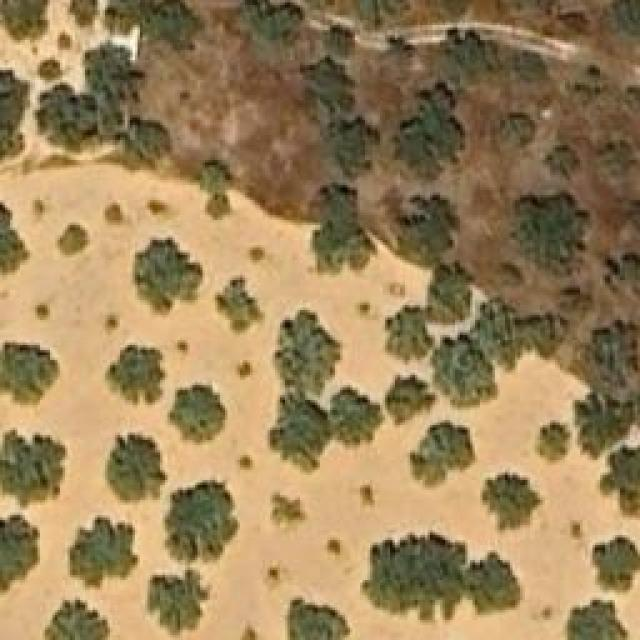Tree: (360, 533, 470, 618), (393, 80, 463, 178), (513, 193, 588, 268), (133, 238, 203, 318), (168, 480, 238, 560), (480, 305, 568, 368), (0, 428, 65, 511), (68, 515, 138, 590), (405, 420, 478, 490), (272, 313, 340, 388), (273, 390, 333, 470), (105, 433, 168, 503), (83, 43, 146, 113), (480, 470, 543, 535), (145, 570, 208, 635), (315, 185, 363, 270), (40, 85, 100, 153), (105, 345, 168, 408), (0, 343, 60, 408), (170, 385, 228, 443), (215, 273, 265, 338), (0, 515, 40, 595), (395, 197, 450, 255), (573, 395, 626, 455), (335, 385, 385, 448), (465, 552, 518, 610), (42, 597, 112, 640), (590, 535, 640, 595), (438, 340, 483, 405), (105, 118, 163, 168), (588, 322, 638, 380), (433, 33, 486, 86), (563, 600, 633, 640), (285, 597, 350, 640), (600, 447, 640, 515), (0, 68, 30, 158), (385, 373, 435, 423), (0, 197, 28, 285), (330, 123, 373, 176), (383, 308, 426, 358), (423, 273, 468, 318), (0, 0, 47, 42), (255, 5, 300, 48), (308, 60, 351, 105), (315, 17, 357, 62), (270, 490, 310, 535), (498, 108, 538, 151), (147, 5, 185, 50), (605, 250, 640, 298), (535, 423, 573, 463), (598, 140, 633, 178), (545, 143, 583, 178), (352, 0, 407, 22), (515, 48, 545, 83), (60, 223, 90, 256), (105, 0, 138, 28), (200, 165, 230, 195), (68, 0, 98, 28), (328, 537, 351, 565), (103, 200, 126, 225), (235, 360, 258, 378), (40, 60, 60, 80), (360, 483, 375, 506), (240, 625, 263, 640), (238, 455, 253, 473)
